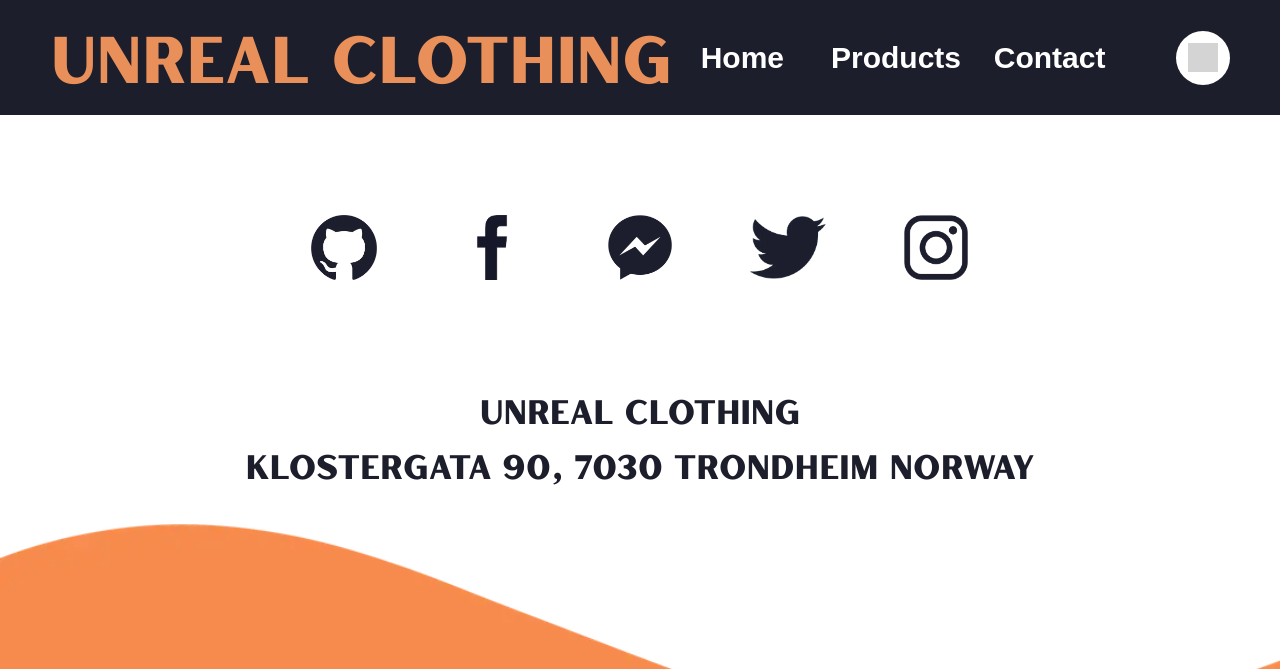
Scenario: Header component › changes to products page when product button is clicked
Click the button "Products".
click(896, 58)  # box [819, 40, 973, 76]
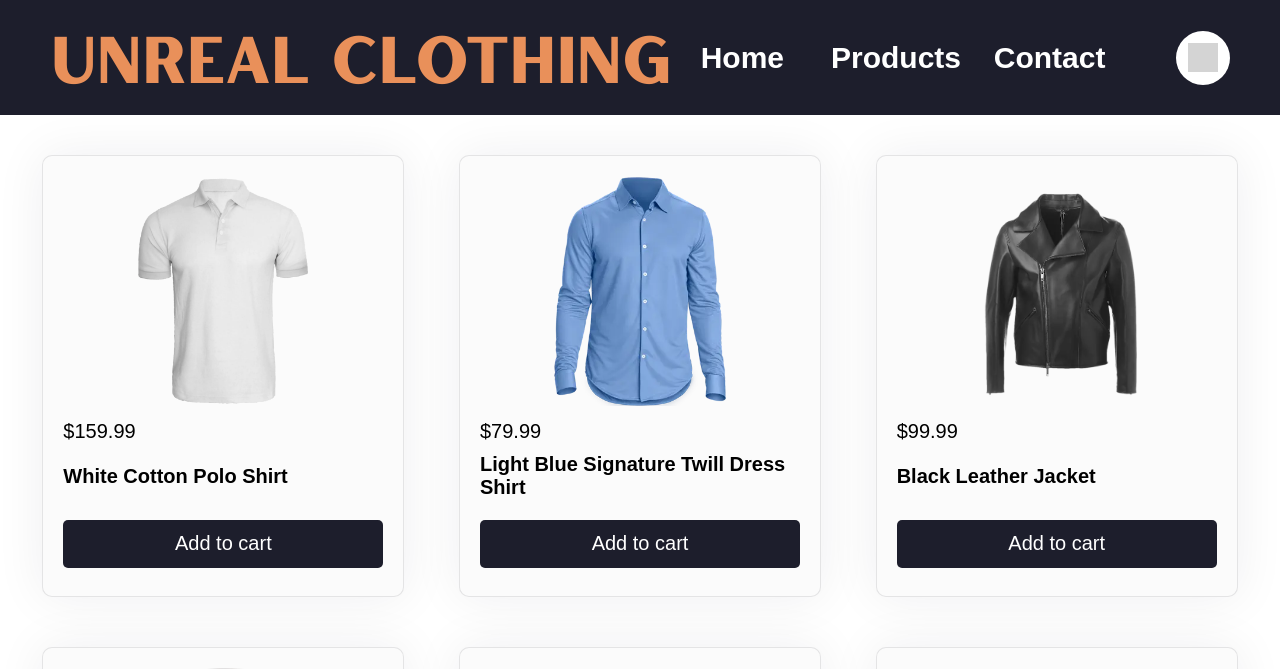
Now the text "White Cotton Polo Shirt" is shown, box [63, 465, 288, 487]
